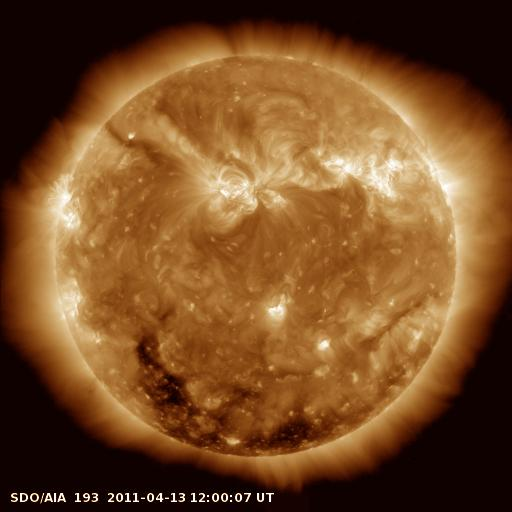coronal_hole: (137, 342, 254, 456), (255, 416, 343, 461)
